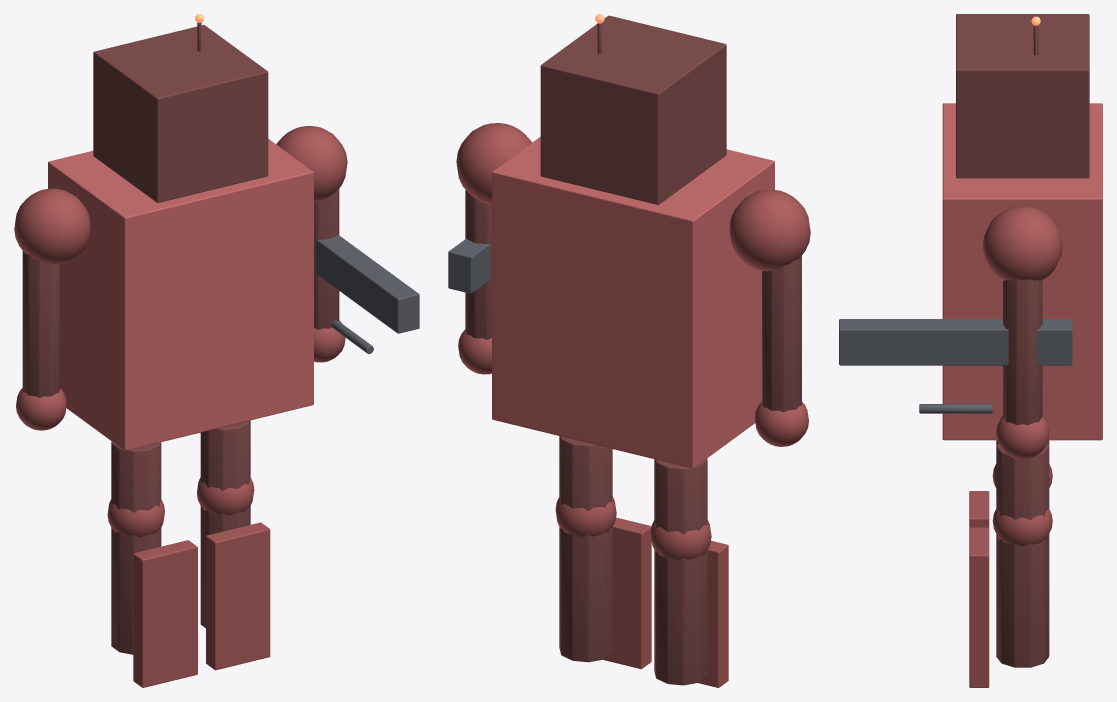
File: enemy.glb
3 views of the same model, side by side, from view 1: azimuth 30°, elevation 25°; view 2: azimuth 150°, elevation 25°; view 3: azimuth 270°, elevation 25° (orthographic). The views are drawn at different scales.
Parts seen in each view (by area): view 1: Enemy; view 2: Enemy; view 3: Enemy.
Boxes of the visible parts, bbox=[...] form: Enemy: bbox=[14, 14, 419, 687]; Enemy: bbox=[448, 14, 810, 687]; Enemy: bbox=[839, 14, 1102, 687].
Bounding box in the file's own units: 1.16 × 2.15 × 0.79.
